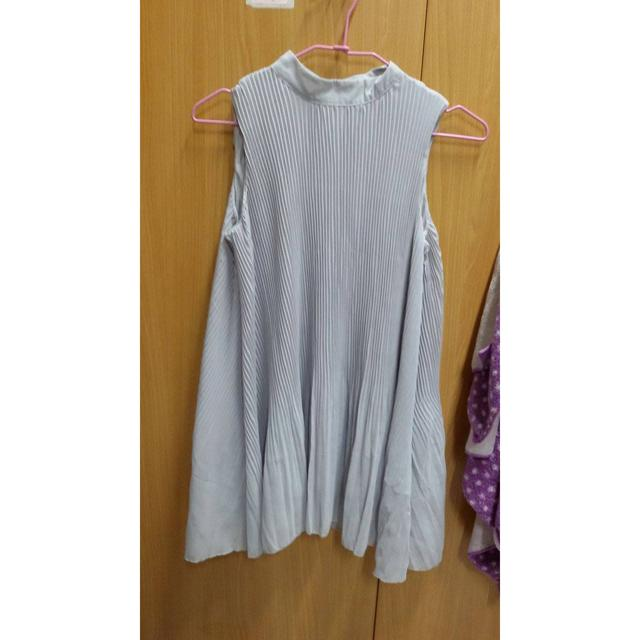Dresses: (182, 48, 447, 583)
